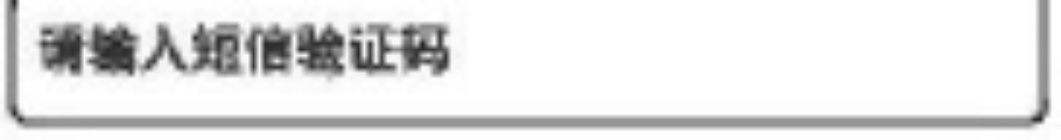EditText: (1, 1, 1060, 139)
